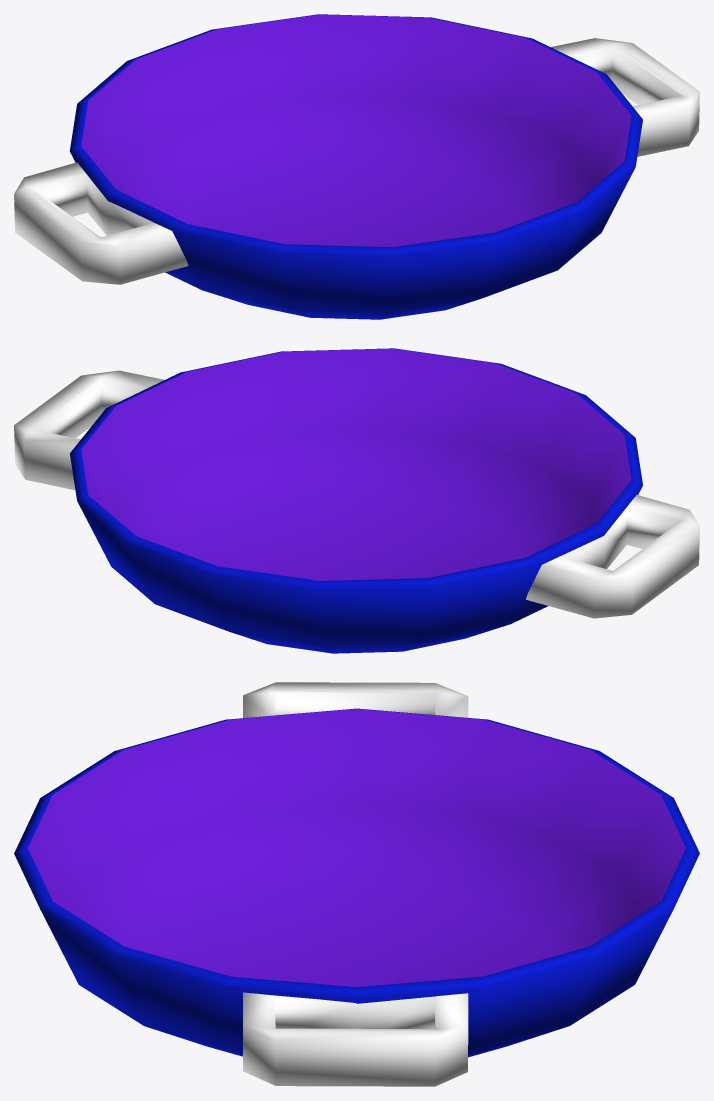
File: Wok.fbx
3 renders of one model, top to bottom at view 1: azimuth 30°, elevation 25°; view 2: azimuth 150°, elevation 25°; view 3: azimuth 270°, elevation 25°, orthographic. The views are drawn at different scales.
Parts seen in each view (by area): view 1: Cylinder, Cylinder_003; view 2: Cylinder, Cylinder_003; view 3: Cylinder, Cylinder_003.
Boxes of the visible parts, <box> form: Cylinder: <box>69,14,642,319</box>; Cylinder_003: <box>14,38,699,284</box>; Cylinder: <box>69,348,642,653</box>; Cylinder_003: <box>14,370,699,618</box>; Cylinder: <box>14,708,699,1057</box>; Cylinder_003: <box>243,682,468,1086</box>.
Bounding box in the file's own units: 66.75 × 11.77 × 54.02.
